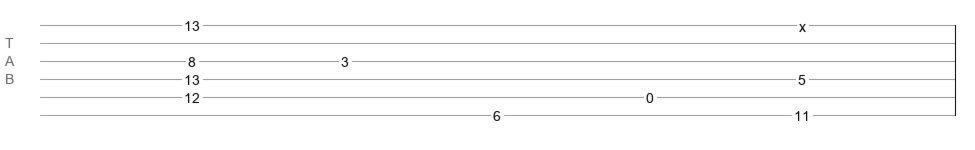0: (646, 90, 654, 100)
11: (794, 108, 810, 118)
12: (184, 90, 200, 100)
13: (184, 72, 200, 82), (184, 18, 200, 28)
3: (341, 54, 349, 64)
5: (798, 72, 806, 82)
6: (493, 108, 501, 118)
8: (188, 54, 196, 64)
x: (799, 19, 806, 27)
